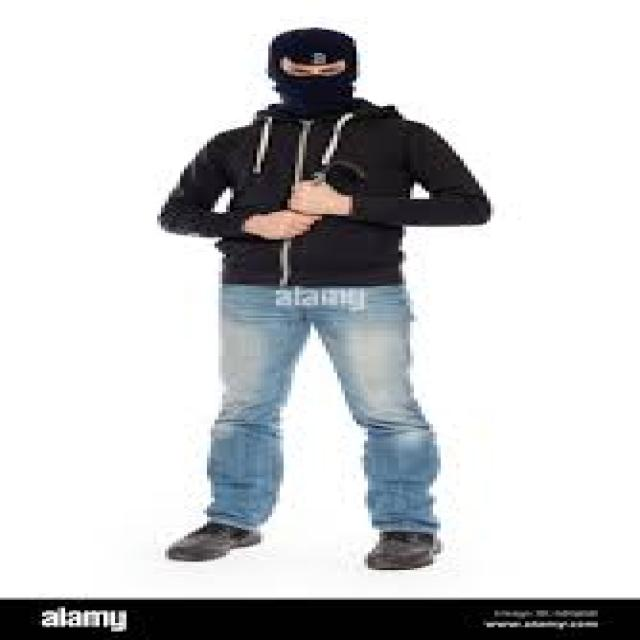masked-intruders: (256, 256, 384, 384)
